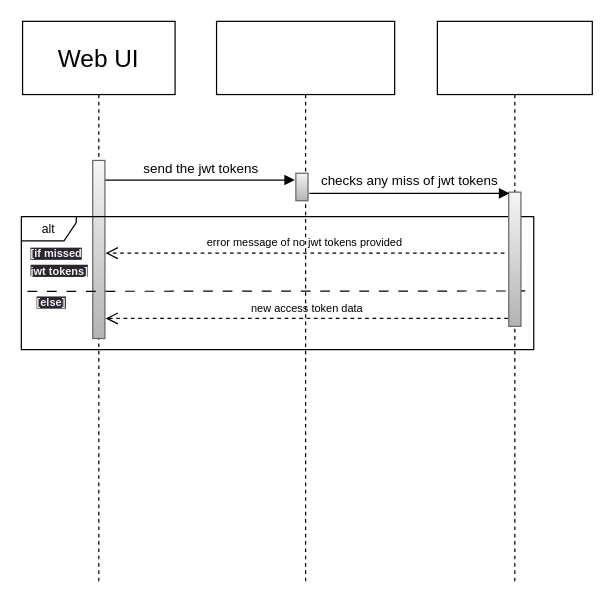
Some shapes in this 614 by 604 pixel diagram are drawn without their labels. Each missing label, with the box of its shape:
Application Service: (436, 20, 592, 583)
Middleware: (215, 20, 395, 583)
